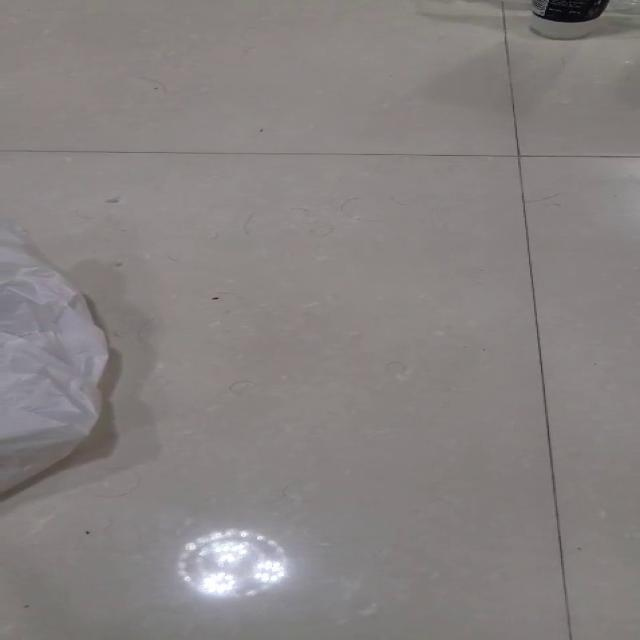plastic: (0, 219, 110, 493)
